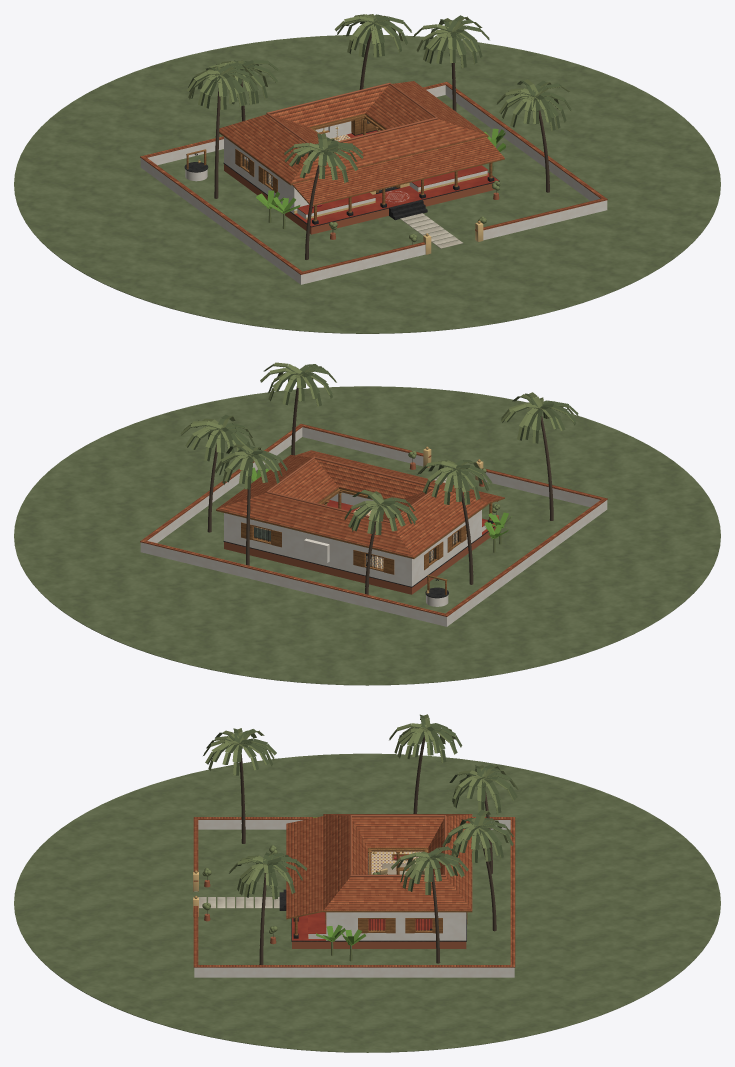
File: mutram-veedu.glb
3 renders of one model, top to bottom at view 1: azimuth 30°, elevation 25°; view 2: azimuth 150°, elevation 25°; view 3: azimuth 270°, elevation 25°, orthographic.
Parts seen in each view (by area): view 1: House_Lawn, House_Roof, House_CompoundWall, House_VerandahRoof, Coconut_1, Coconut_2, Coconut_3, House_Plinth, Coconut_0, House_Thinnai, Coconut_4, House_Floors (+5 smaller); view 2: House_Lawn, House_Roof, House_CompoundWall, House_Walls, Coconut_2, House_Plinth, Coconut_0, Coconut_3, Coconut_5, Coconut_4, Coconut_1, House_Windows (+2 smaller); view 3: House_Lawn, House_Roof, House_CompoundWall, House_VerandahRoof, House_Walls, Coconut_0, Coconut_4, Coconut_3, Coconut_1, Coconut_2, Coconut_5, House_Plinth (+4 smaller).
Part boxes in pixels (box(x1,y1,x2,y2)): House_Lawn: box(14, 35, 720, 333); House_Roof: box(219, 81, 488, 185); House_CompoundWall: box(140, 81, 607, 284); House_VerandahRoof: box(292, 137, 504, 206); Coconut_1: box(496, 79, 571, 192); Coconut_2: box(187, 63, 257, 198); Coconut_3: box(413, 15, 489, 111); House_Plinth: box(223, 162, 499, 234); Coconut_0: box(284, 133, 363, 259); House_Thinnai: box(297, 163, 494, 224); Coconut_4: box(334, 14, 411, 89); House_Floors: box(245, 130, 498, 226); House_Lawn: box(14, 386, 720, 685); House_Roof: box(216, 455, 488, 558); House_CompoundWall: box(140, 424, 607, 626); House_Walls: box(224, 492, 481, 586); Coconut_2: box(417, 460, 492, 584); House_Plinth: box(223, 526, 496, 594); Coconut_0: box(501, 392, 578, 520); Coconut_3: box(180, 414, 255, 532); Coconut_5: box(344, 489, 417, 594); Coconut_4: box(215, 444, 287, 565); Coconut_1: box(260, 362, 336, 455); House_Windows: box(241, 491, 466, 574); House_Lawn: box(14, 753, 720, 1052); House_Roof: box(323, 814, 472, 912); House_CompoundWall: box(193, 817, 515, 977); House_VerandahRoof: box(286, 816, 323, 919); House_Walls: box(326, 912, 466, 940); Coconut_0: box(203, 728, 276, 843); Coconut_4: box(442, 809, 513, 931); Coconut_3: box(391, 846, 468, 963); Coconut_1: box(229, 852, 307, 964); Coconut_2: box(389, 714, 462, 813); Coconut_5: box(449, 764, 518, 873); House_Plinth: box(279, 889, 466, 948).
Size of the model in its own units: 60 by 11.45 by 60.
36 materials, 15 textured.
